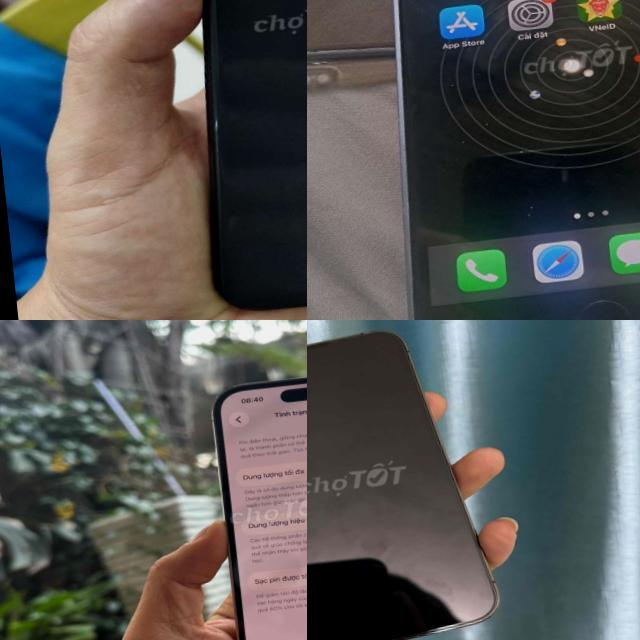gen_12_13: (307, 322, 516, 640)
gen_14: (206, 351, 307, 640)
gen_7_8: (347, 0, 640, 320), (172, 0, 307, 311)
scratch: (415, 52, 530, 168), (516, 197, 538, 220)
